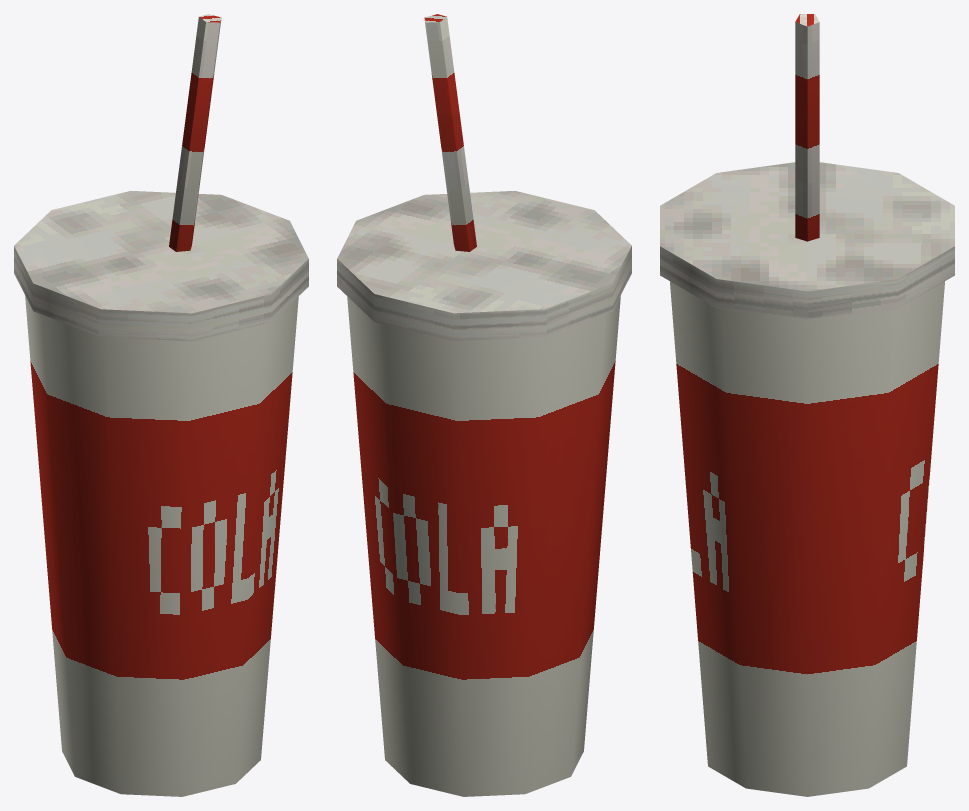
The model's file is soda_cup.glb.
3 renders of one model, left to right at view 1: azimuth 30°, elevation 25°; view 2: azimuth 150°, elevation 25°; view 3: azimuth 270°, elevation 25°, orthographic. The views are drawn at different scales.
Parts seen in each view (by area): view 1: soda_cup; view 2: soda_cup; view 3: soda_cup.
Boxes of the visible parts, x1,y1,x2,y2 form: soda_cup: [14, 14, 308, 796]; soda_cup: [337, 14, 631, 796]; soda_cup: [660, 14, 954, 796].
Bounding box in the file's own units: 0.096 × 0.2596 × 0.0913.
1 material, 1 textured.
